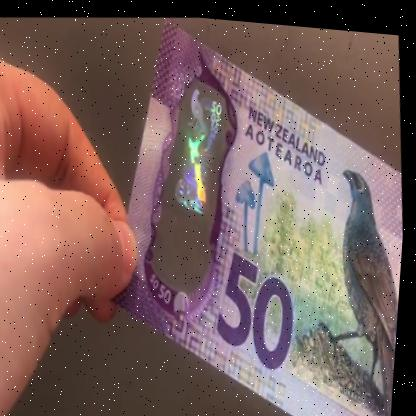50B: (160, 75, 243, 278)
